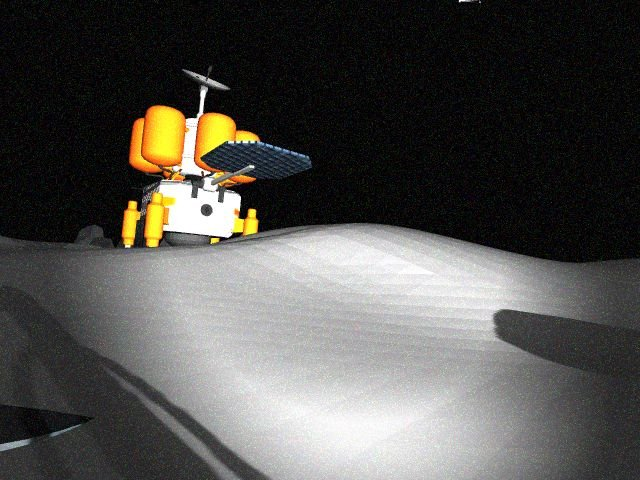homebase: (97, 57, 314, 270)
